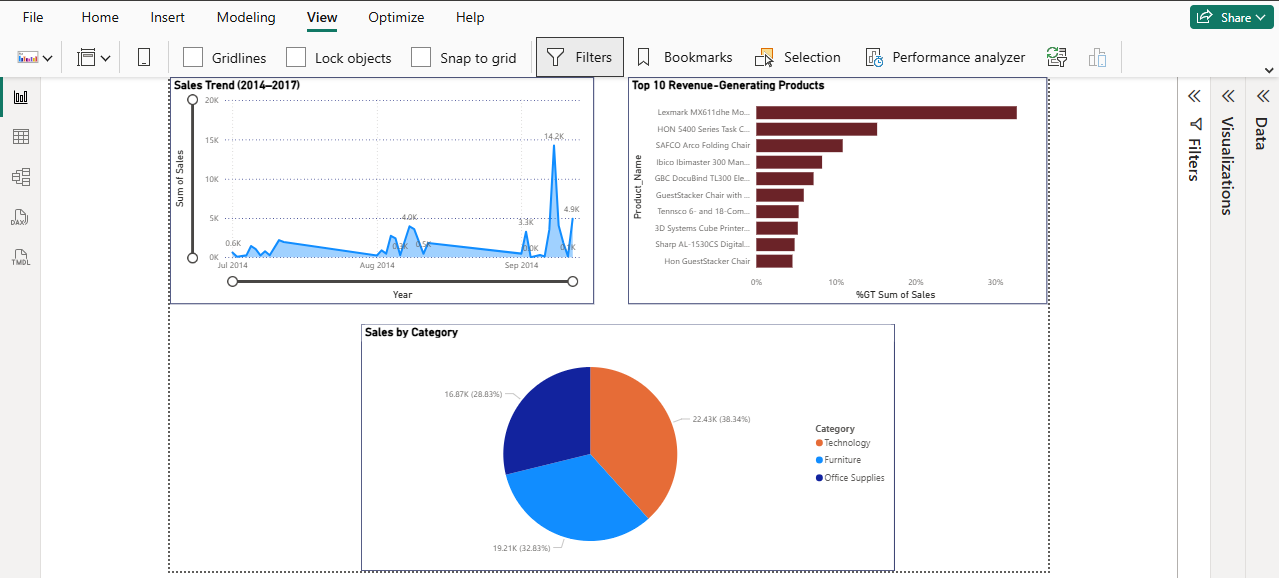

The page's visual inventory and layout, read from the dashboard file:
{"tool":"powerbi","page":{"name":"Page 2","canvas":[1280,720],"ordinal":1},"visuals":[{"type":"lineChart","title":"Sales Trend (2014–2017)","fields":{"Y":["Sum(Sample - Superstore.Sales)","select"],"Category":["Sample - Superstore.Order_Date.Variation.Date Hierarchy.Year","Sample - Superstore.Order_Date.Variation.Date Hierarchy.Quarter","Sample - Superstore.Order_Date.Variation.Date Hierarchy.Month","Sample - Superstore.Order_Date.Variation.Date Hierarchy.Day"]},"box":[0,0,617.8,330.8],"z":1000},{"type":"clusteredBarChart","title":"Top 10 Revenue-Generating Products","fields":{"Y":["Sum(Sample - Superstore.Sales)"],"Category":["Sample - Superstore.Product_Name"]},"box":[668.1,0,611.4,330.8],"z":1001},{"type":"pieChart","title":"Sales by Category","fields":{"Category":["Sample - Superstore.Category"],"Y":["Sum(Sample - Superstore.Sales)"]},"box":[278.9,360,778.4,360],"z":1002}]}

Visuals, with their boxes on the page's 1280x720 design canvas (x1, y1, x2, y2). These are canvas units, not pixel positions in the 1279x578 screenshot, which may show the page scaled, cropped or inside an application window:
"Sales Trend (2014–2017)" lineChart: box=[0, 0, 618, 331]
"Top 10 Revenue-Generating Products" clusteredBarChart: box=[668, 0, 1280, 331]
"Sales by Category" pieChart: box=[279, 360, 1057, 720]
